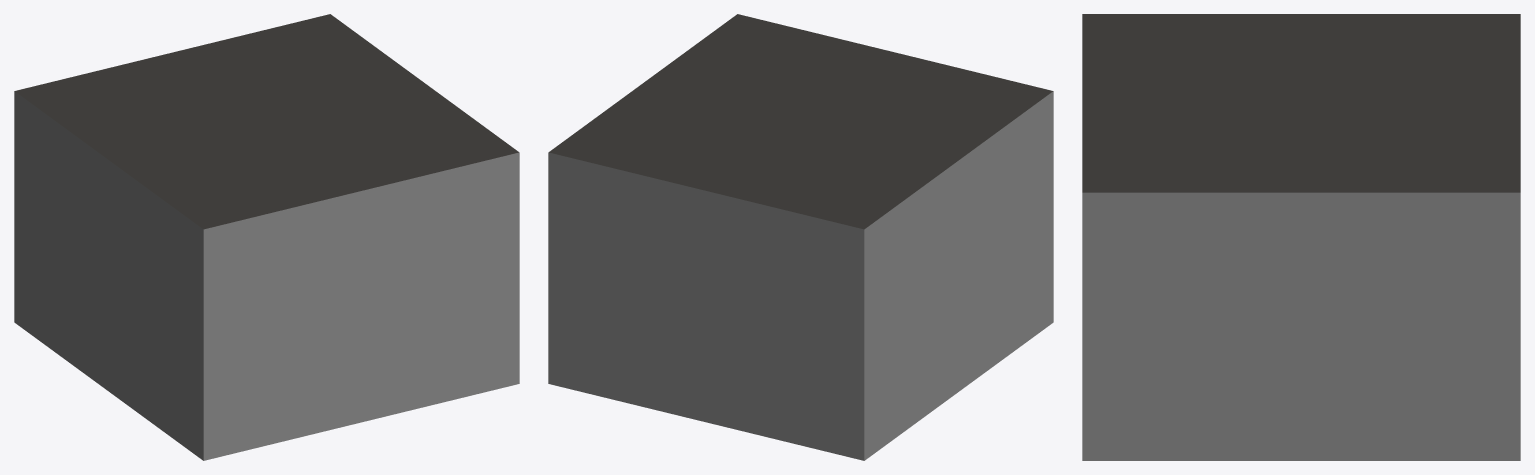
The model's file is House_3.glb.
The picture shows the model from 3 angles, left to right: view 1: azimuth 30°, elevation 25°; view 2: azimuth 150°, elevation 25°; view 3: azimuth 270°, elevation 25°; orthographic projection. The views are drawn at different scales.
Visible parts, largest first — view 1: Cube; view 2: Cube; view 3: Cube.
Part boxes in pixels (box(x1,y1,x2,y2)): Cube: box(14, 14, 519, 460); Cube: box(548, 14, 1053, 460); Cube: box(1082, 14, 1520, 460).
Size of the model in its own units: 14.57 by 10.2 by 15.1.
1 material, 1 textured.
